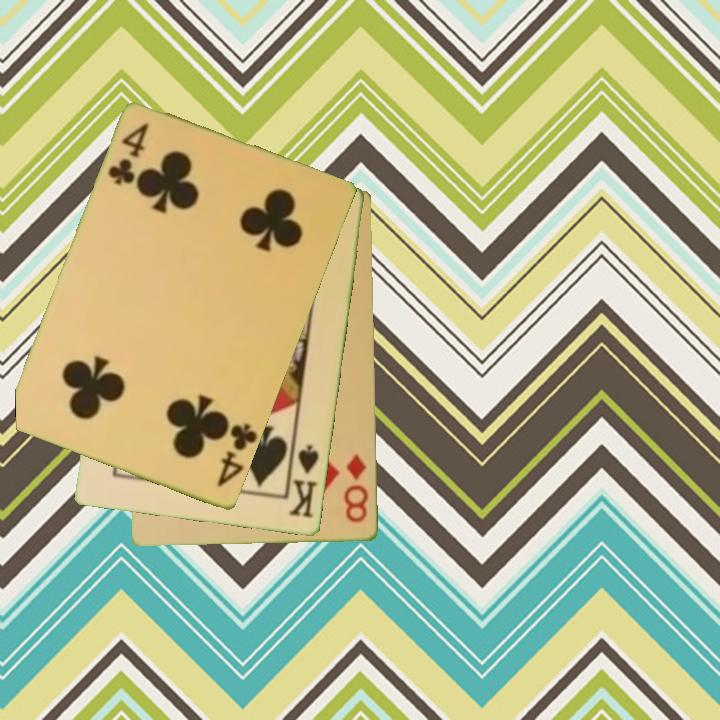4c: (104, 119, 152, 189), (213, 420, 260, 490)
8d: (340, 450, 372, 526)
Ks: (285, 439, 322, 521)
